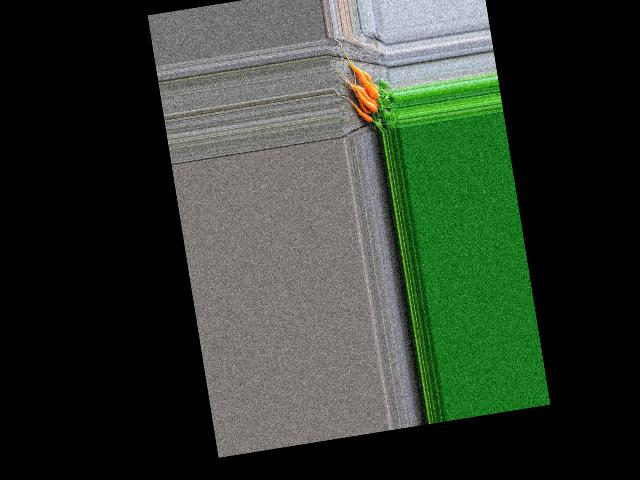carrot: (352, 62, 380, 105)
